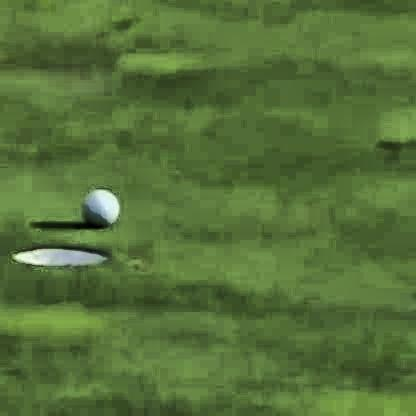golfball: (81, 184, 117, 223)
